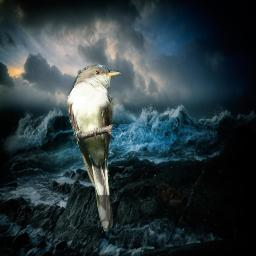Cuckoo: (67, 64, 122, 232)
